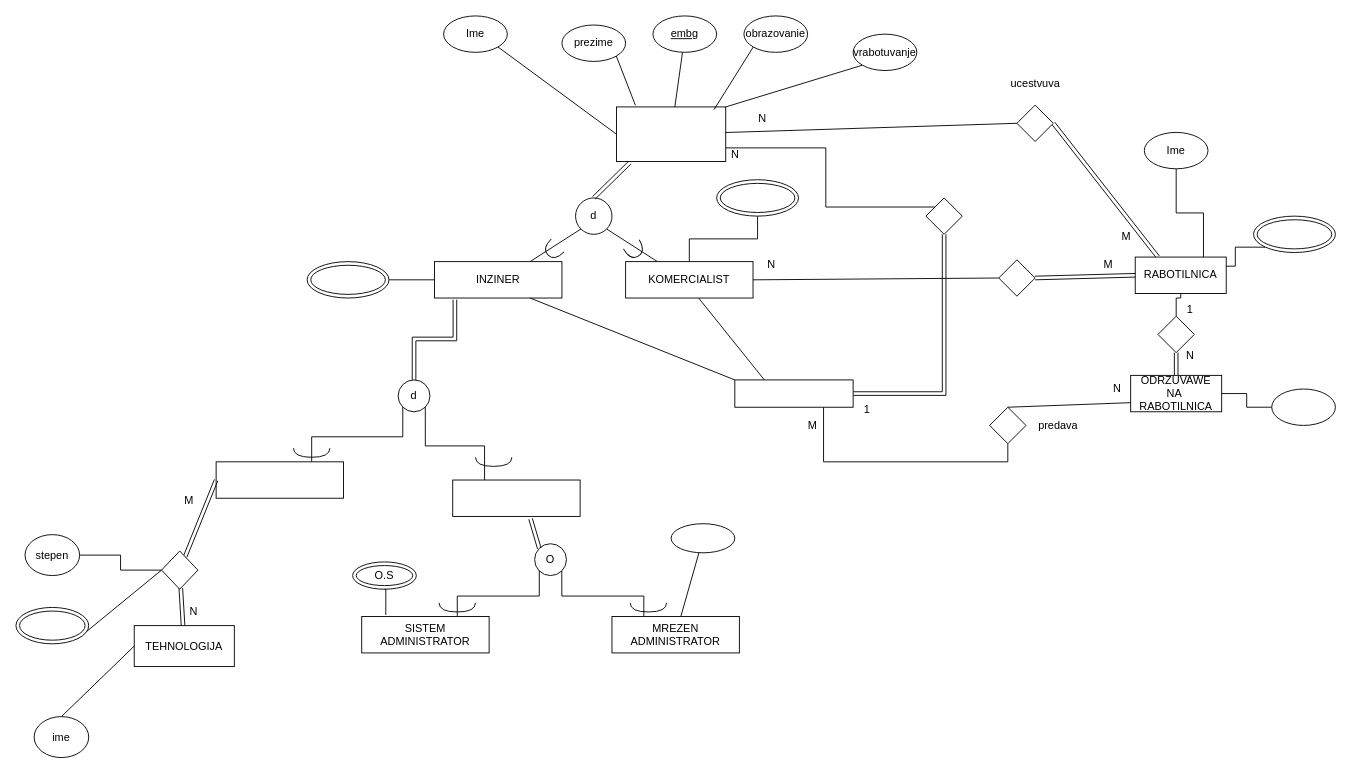
Some shapes in this 1351 by 774 pixel diagram are drawn without their labels. The centre of each missing label's shape, as x and y in pixels:
"ADMINISTRATOR" belongs at (516,497).
"funkcionalnosti" belongs at (52,625).
"godina" belongs at (1303,406).
"jazici" belongs at (757,197).
"kursevi" belongs at (347,279).
"MENAGERI" belongs at (793,393).
"PROGRAMER" belongs at (279,479).
"rabotno iskustvo" belongs at (702,538).
"temi" belongs at (1294,234).
"VRABOTEN" belongs at (671,134).
